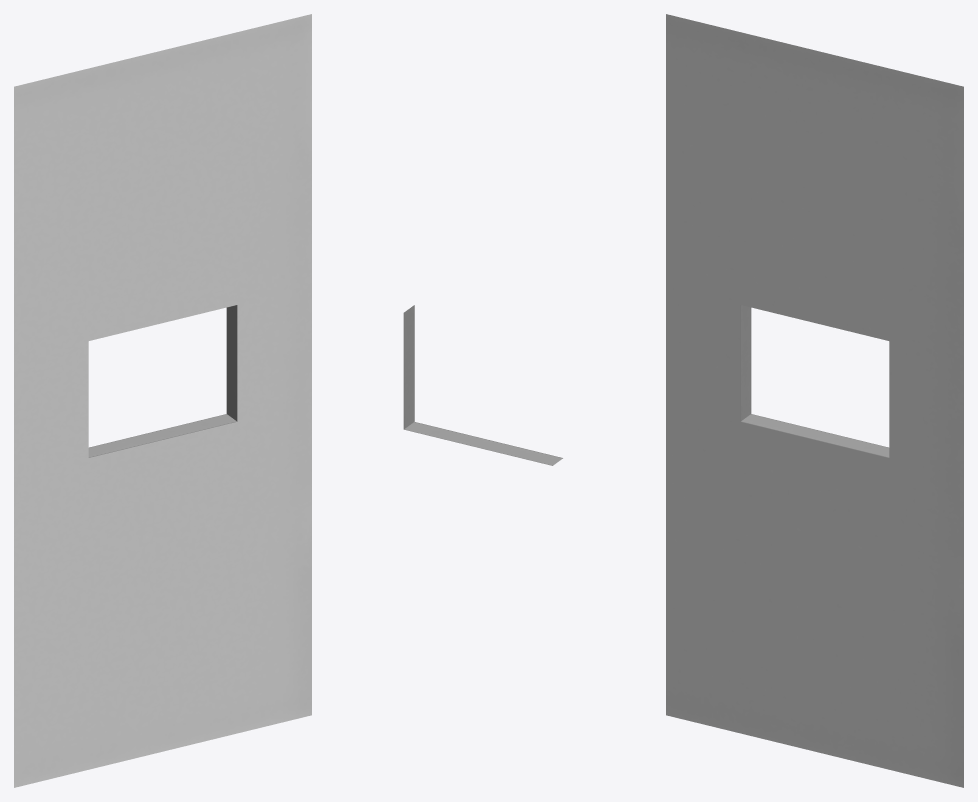
Rendered from Wall4x4_5Win1x0_75Horz.gltf.
3 renders of one model, left to right at view 1: azimuth 30°, elevation 25°; view 2: azimuth 150°, elevation 25°; view 3: azimuth 330°, elevation 25°, orthographic.
Parts seen in each view (by area): view 1: Wall4x4_5Win1x0_75HorzShape; view 2: Wall4x4_5Win1x0_75HorzShape; view 3: Wall4x4_5Win1x0_75HorzShape.
Boxes of the visible parts, <box> form: Wall4x4_5Win1x0_75HorzShape: <box>14,14,311,787</box>; Wall4x4_5Win1x0_75HorzShape: <box>403,305,562,465</box>; Wall4x4_5Win1x0_75HorzShape: <box>666,14,963,787</box>.
Bounding box in the file's own units: 2 × 4.5 × 0.125.
Materials: 1 (1 with a texture image).
